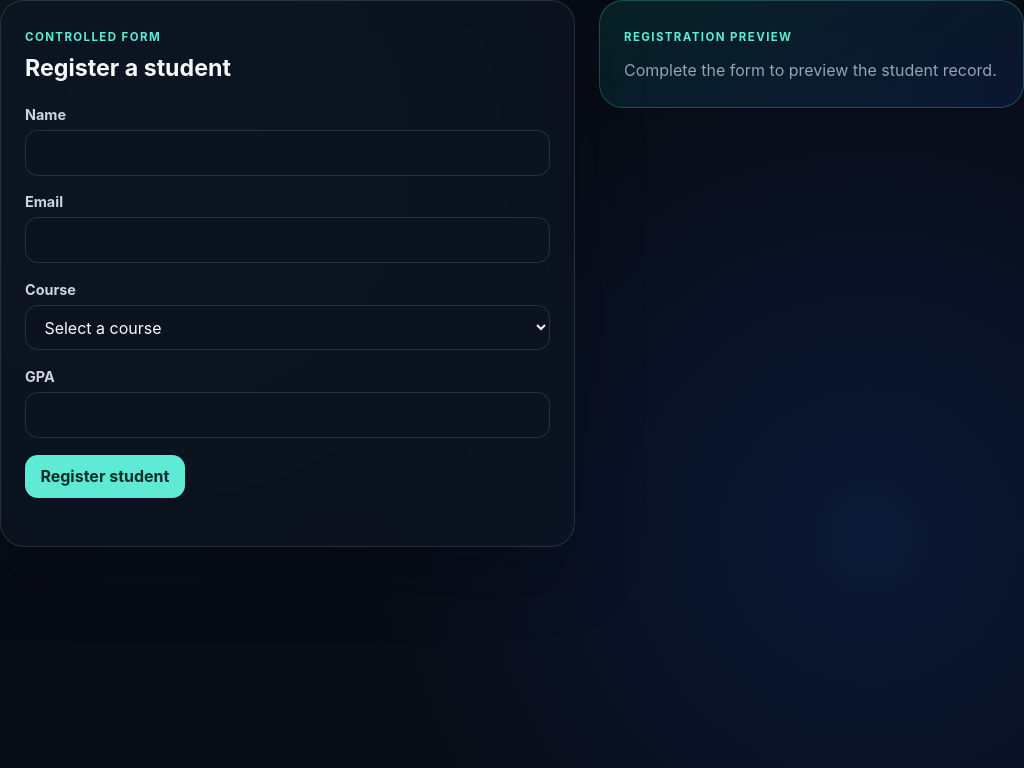
Test: StudentRegistrationForm › validates required fields and the GPA range
This screenshot has width=1024, height=768.
Click the button "Register student" at point(105, 476), box [25, 455, 185, 498]
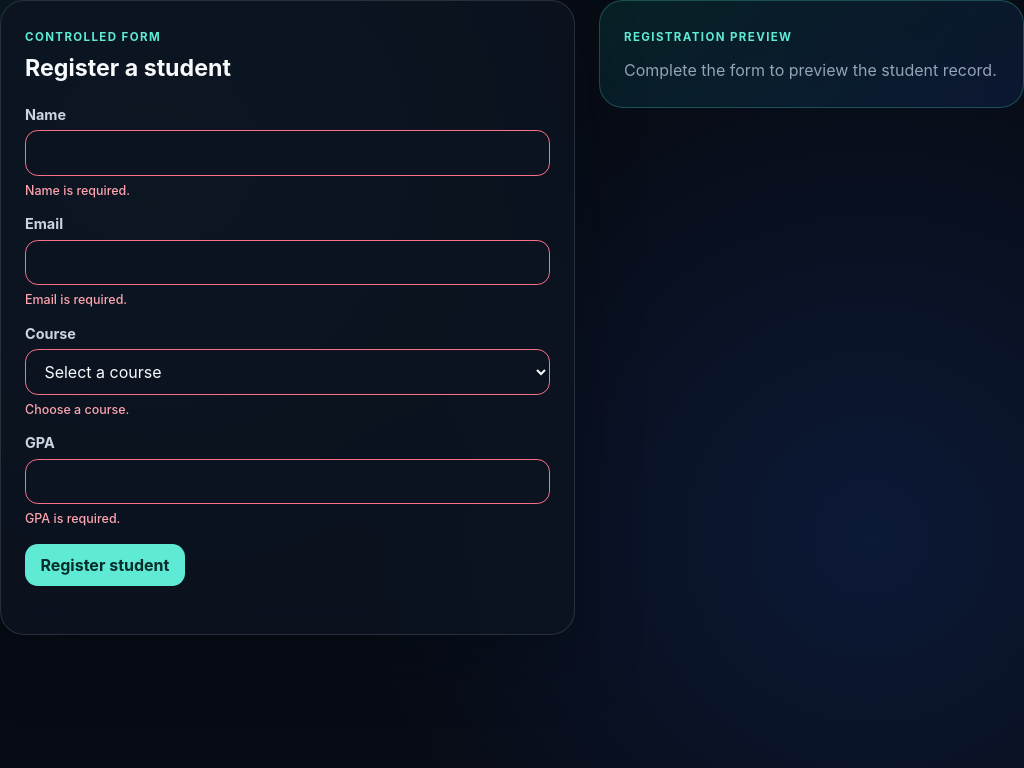
expect the text "Name is required." is shown: met, box [25, 183, 130, 198]
expect the text "Email is required." is shown: met, box [25, 292, 127, 307]
expect the text "Choose a course." is shown: met, box [25, 402, 129, 417]
Type "4.5" into the number field labelled "GPA" at point(288, 482), box [25, 459, 550, 504]
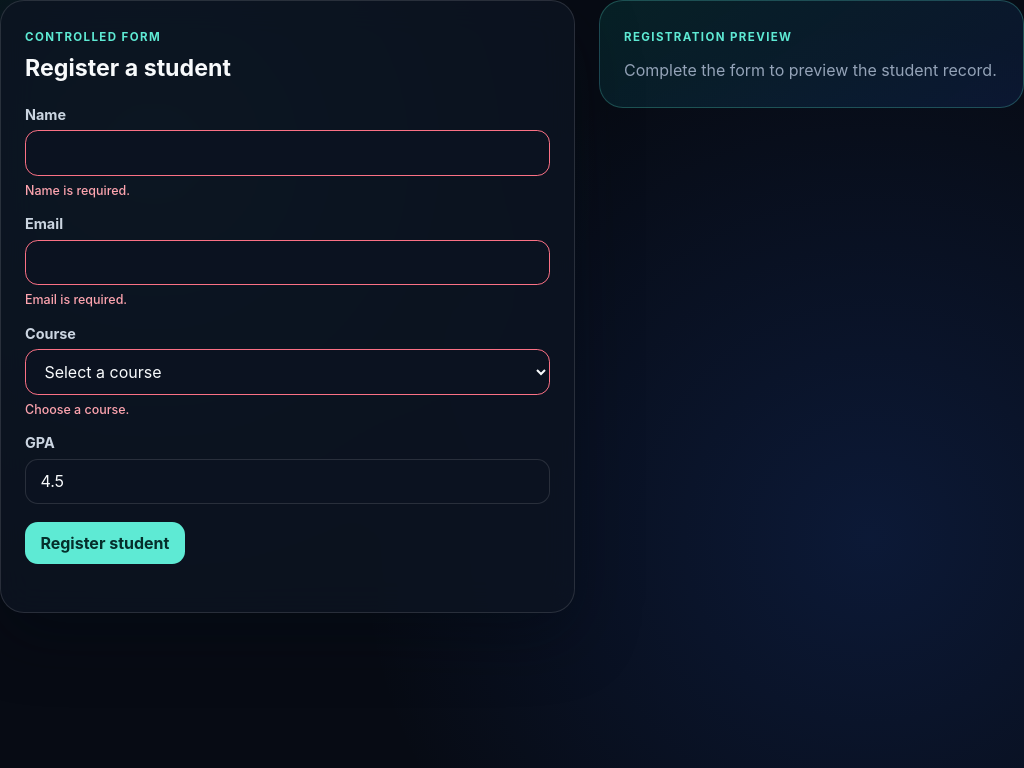
Click the button "Register student" at point(105, 543), box [25, 522, 185, 564]
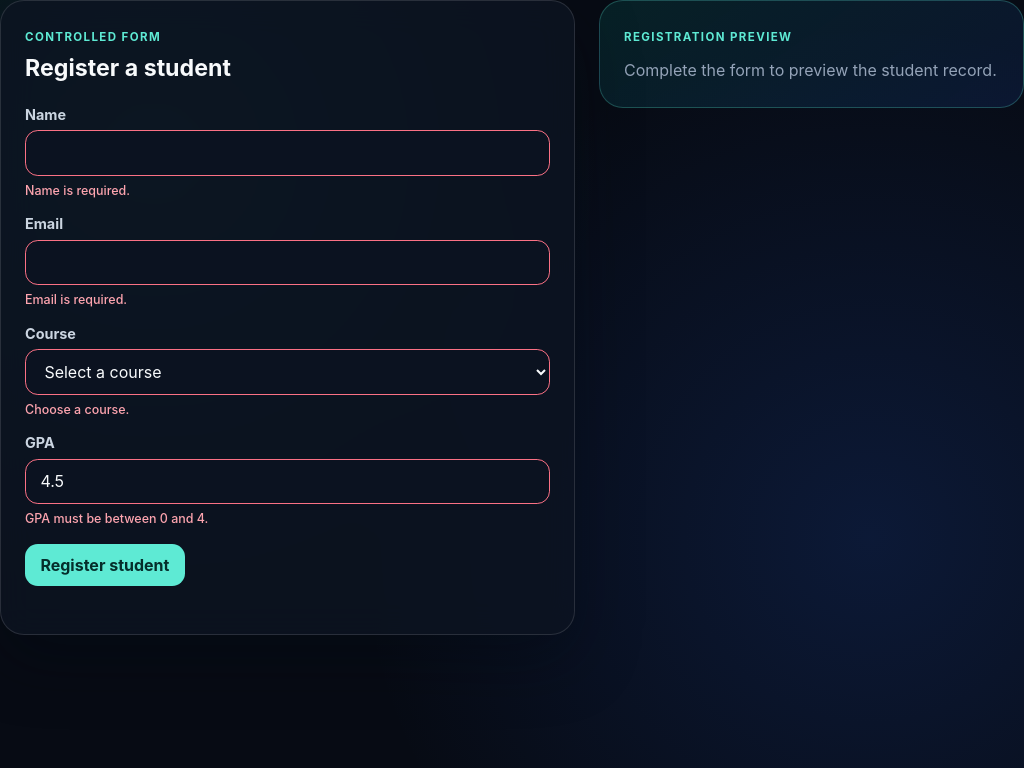
expect the text "GPA must be between 0 and 4." is shown: met, box [25, 512, 208, 526]
